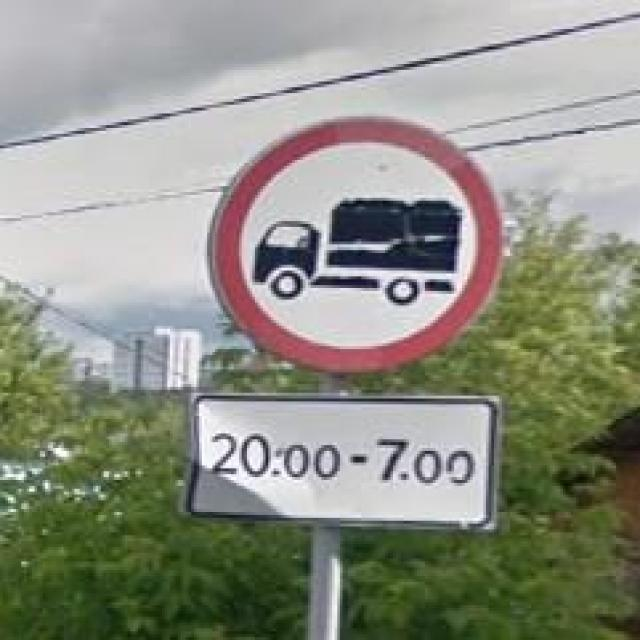traffic_sign: (210, 116, 502, 372)
